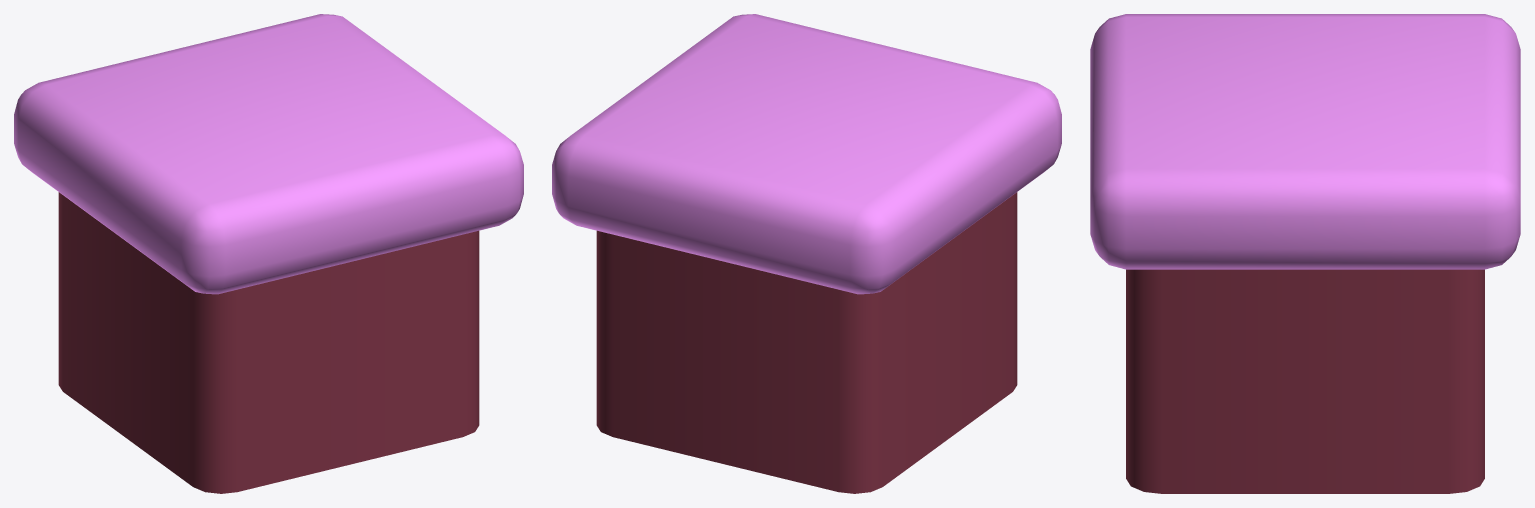
Rendered from GroundLevelButtonCandy.fbx.
The picture shows the model from 3 angles, left to right: view 1: azimuth 30°, elevation 25°; view 2: azimuth 150°, elevation 25°; view 3: azimuth 270°, elevation 25°; orthographic projection. The views are drawn at different scales.
Parts seen in each view (by area): view 1: GroundLevelButtonCandy; view 2: GroundLevelButtonCandy; view 3: GroundLevelButtonCandy.
Boxes of the visible parts, x1,y1,x2,y2 form: GroundLevelButtonCandy: (14,14,523,493); GroundLevelButtonCandy: (552,14,1061,493); GroundLevelButtonCandy: (1090,14,1520,493).
Bounding box in the file's own units: 240 × 200 × 240.
